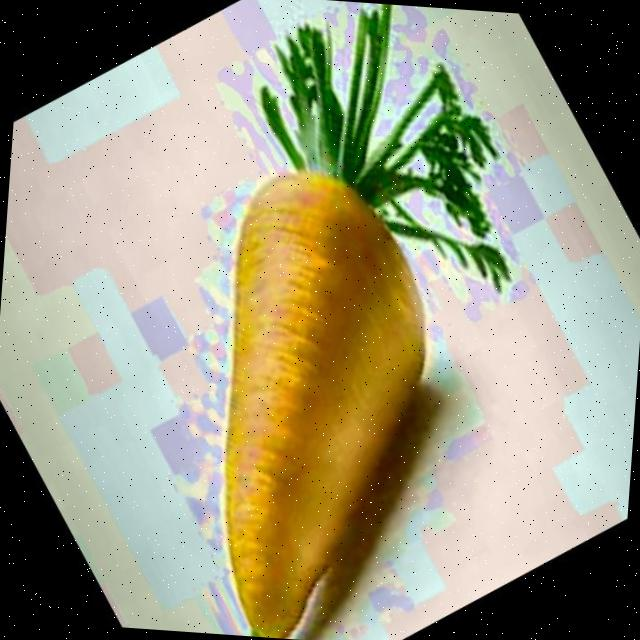carrot: (225, 3, 508, 638)
